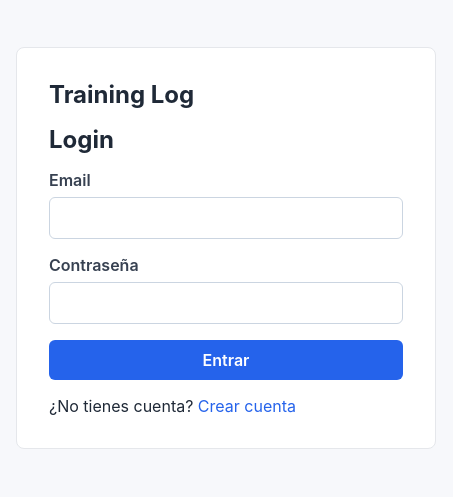
it: LoginPage › shows a visible error when login fails
Type "wrong@gmail.com" into the field labelled "Email" at (226, 218), box [49, 197, 403, 239]
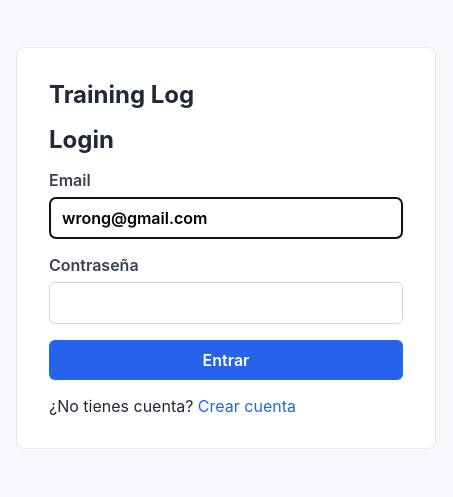
Type "123456" into the password field labelled "Contraseña" at (226, 303), box [49, 282, 403, 324]
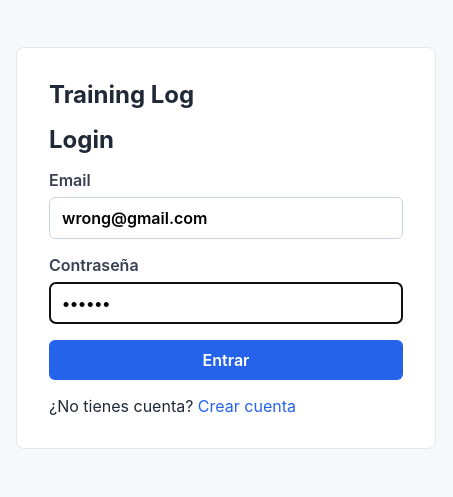
Click the button "Entrar" at (226, 360), box [49, 340, 403, 380]
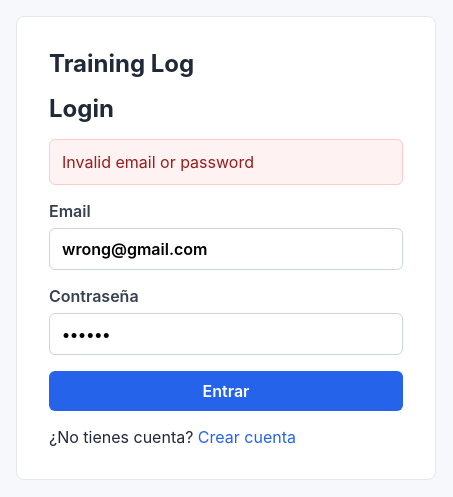
Expected: the text "Invalid email or password" is shown, [49, 139, 403, 185]
